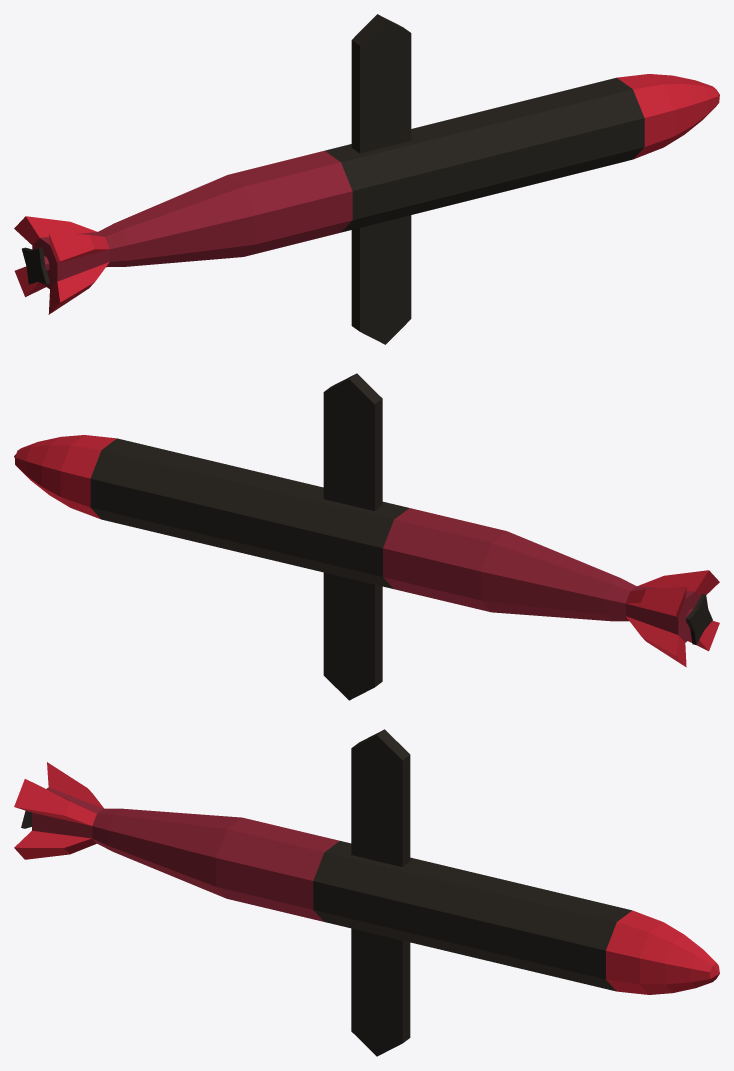
The model's file is Weapon_CruiseMissile.obj.
3 views of the same model, one above another, from view 1: azimuth 30°, elevation 25°; view 2: azimuth 150°, elevation 25°; view 3: azimuth 330°, elevation 25° (orthographic).
Visible parts, largest first — view 1: CruiseTest; view 2: CruiseTest; view 3: CruiseTest.
Part boxes in pixels (x1,y1,x2,y2): CruiseTest: [14, 14, 719, 344]; CruiseTest: [14, 373, 719, 700]; CruiseTest: [14, 729, 719, 1056].
Size of the model in its own units: 2.92 by 1.31 by 0.3345.
Materials: 1 (1 with a texture image).
